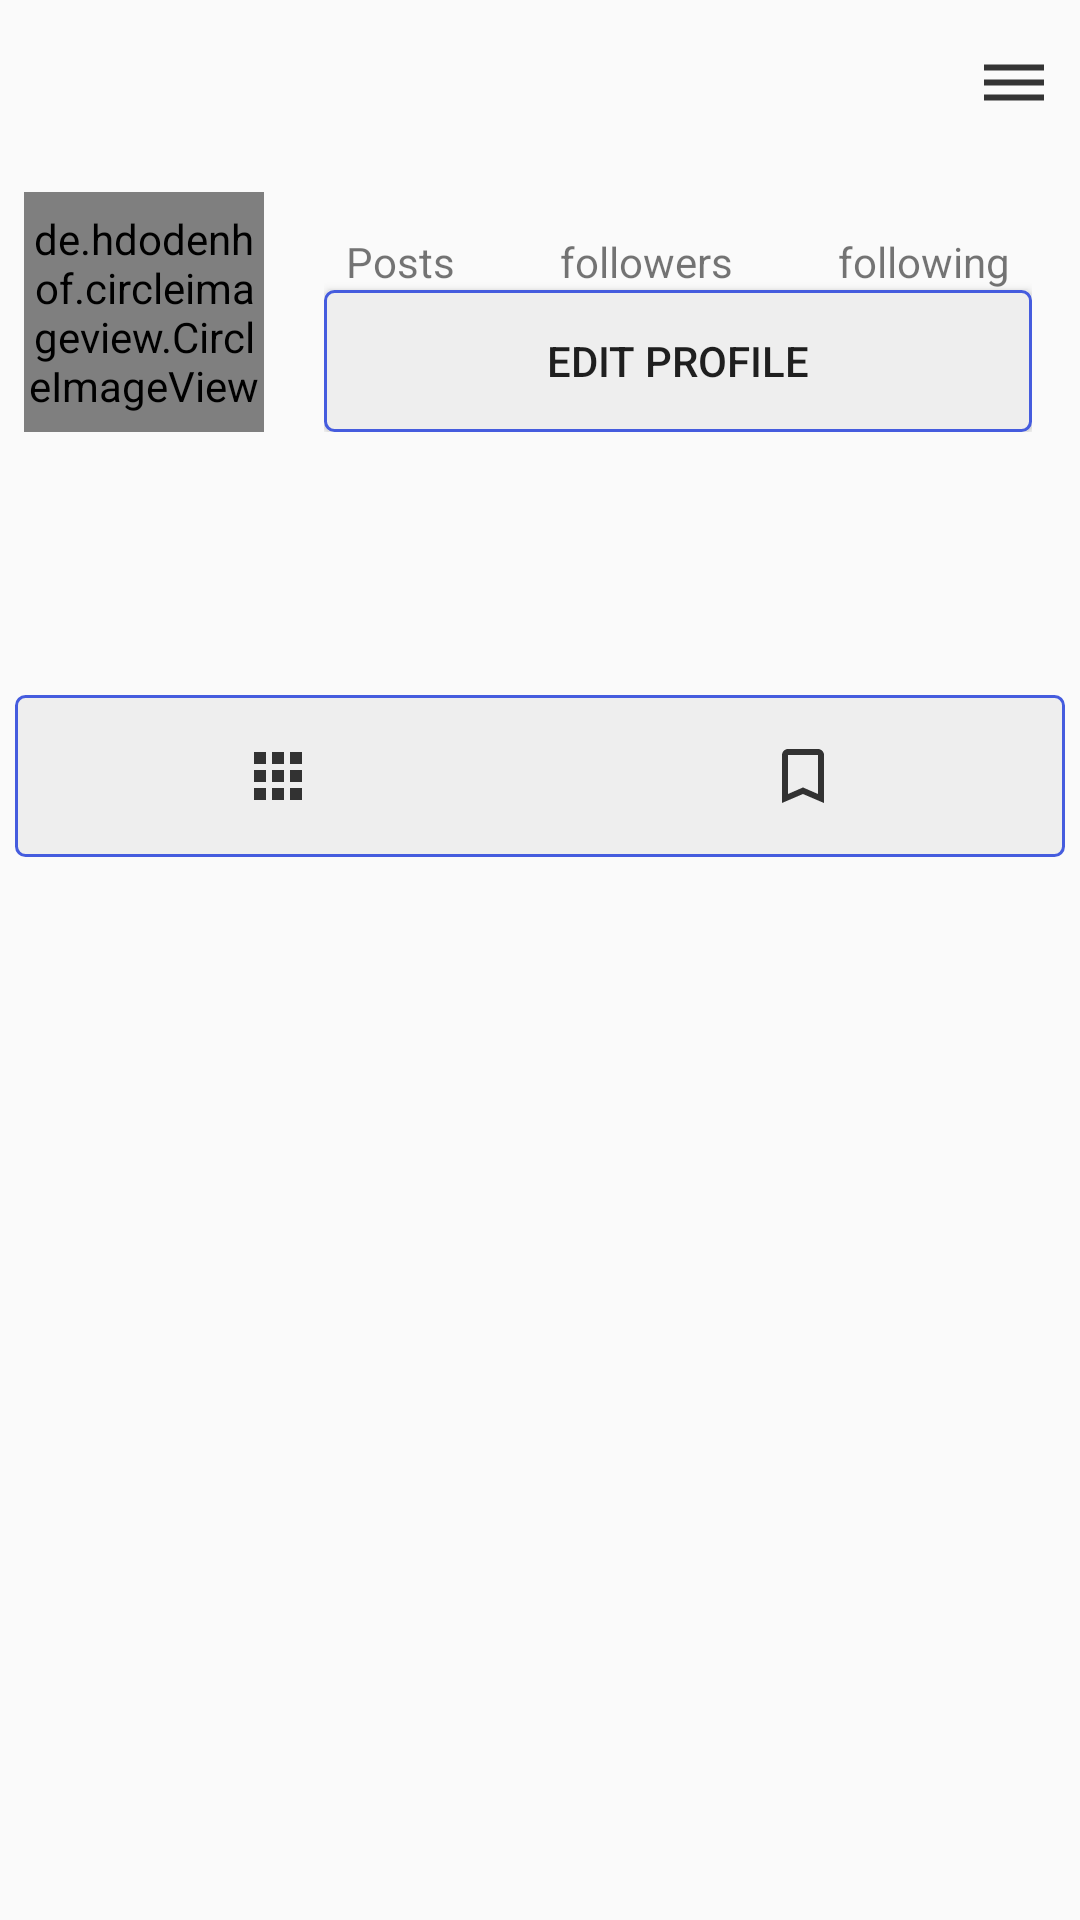

Named icons in this screenshot (1080×1920) and their centers, (x=x, y=y):
grid: (x=278, y=776)
option: (x=1014, y=82)
save: (x=803, y=776)
